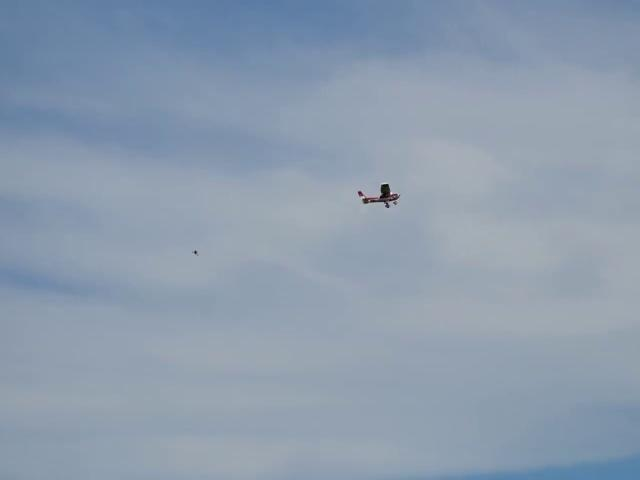Airplane: (358, 183, 400, 208)
